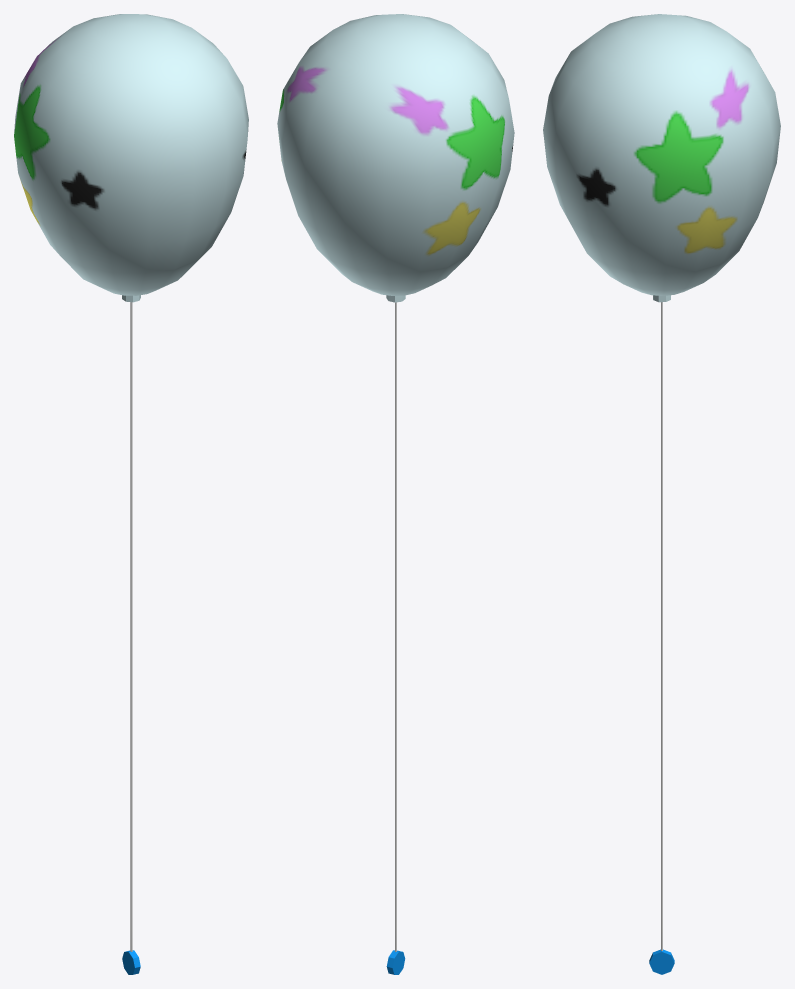
Rendered from BalloonC.fbx.
3 renders of one model, left to right at view 1: azimuth 30°, elevation 25°; view 2: azimuth 150°, elevation 25°; view 3: azimuth 270°, elevation 25°, orthographic.
Visible parts, largest first — view 1: BalloonC; view 2: BalloonC; view 3: BalloonC.
Part boxes in pixels (<box>): BalloonC: <box>14,14,248,974</box>; BalloonC: <box>277,14,514,974</box>; BalloonC: <box>543,14,780,974</box>.
Bounding box in the file's own units: 275 × 1208 × 275.
